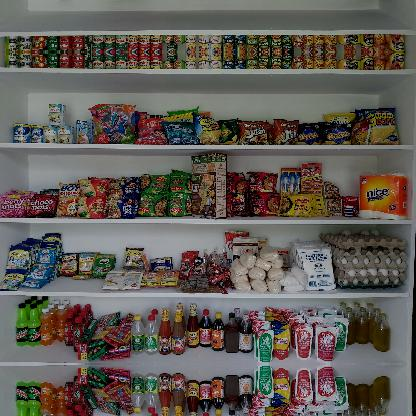Koko-Krunch: (192, 152, 226, 218)
